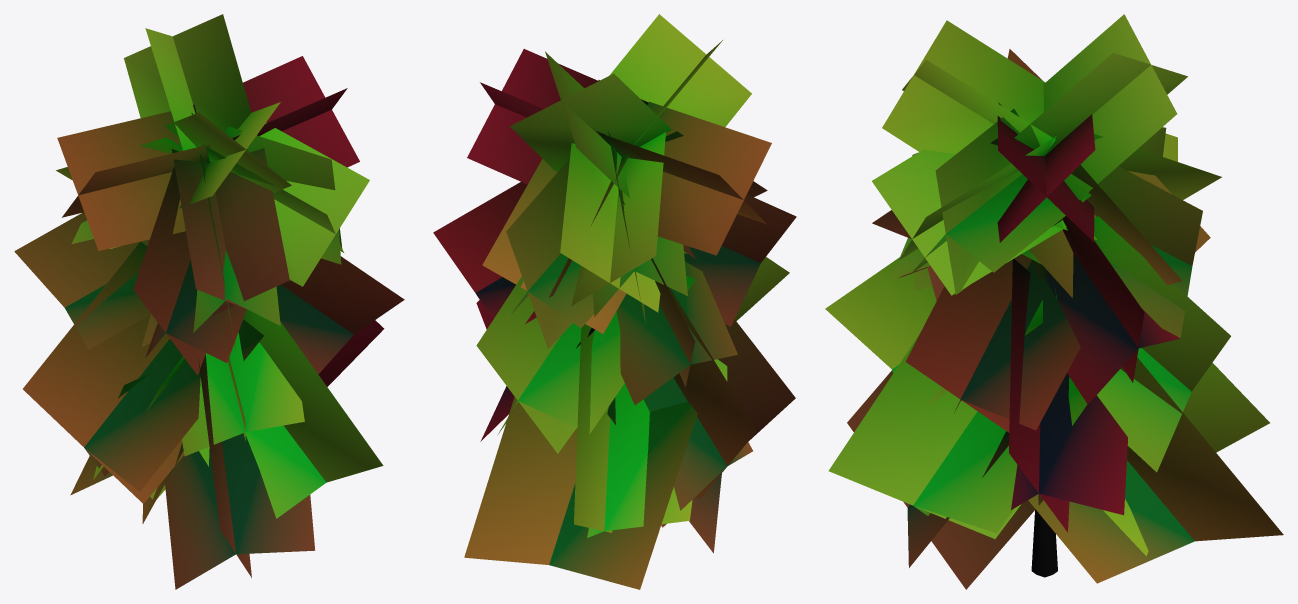
File: Super_11_14.fbx
3 views of the same model, side by side, from view 1: azimuth 30°, elevation 25°; view 2: azimuth 150°, elevation 25°; view 3: azimuth 270°, elevation 25° (orthographic). The views are drawn at different scales.
Visible parts, largest first — view 1: Super_11_14; view 2: Super_11_14; view 3: Super_11_14.
Part boxes in pixels (x1=…): Super_11_14: x1=14, y1=14, x2=404, y2=589; Super_11_14: x1=433, y1=14, x2=796, y2=589; Super_11_14: x1=825, y1=14, x2=1283, y2=589.
Size of the model in its own units: 1369 by 2088 by 1555.
